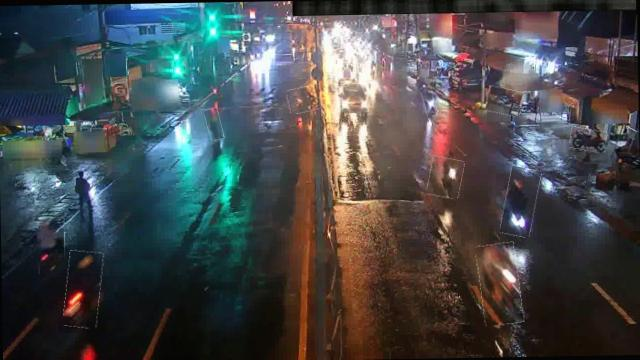Bike: (478, 242, 522, 326), (64, 250, 102, 328), (502, 166, 539, 237), (37, 218, 65, 274), (428, 156, 464, 198), (486, 86, 523, 116), (570, 127, 608, 152), (287, 86, 320, 114), (205, 108, 223, 140), (422, 86, 436, 116)
Car: (336, 84, 367, 120)
